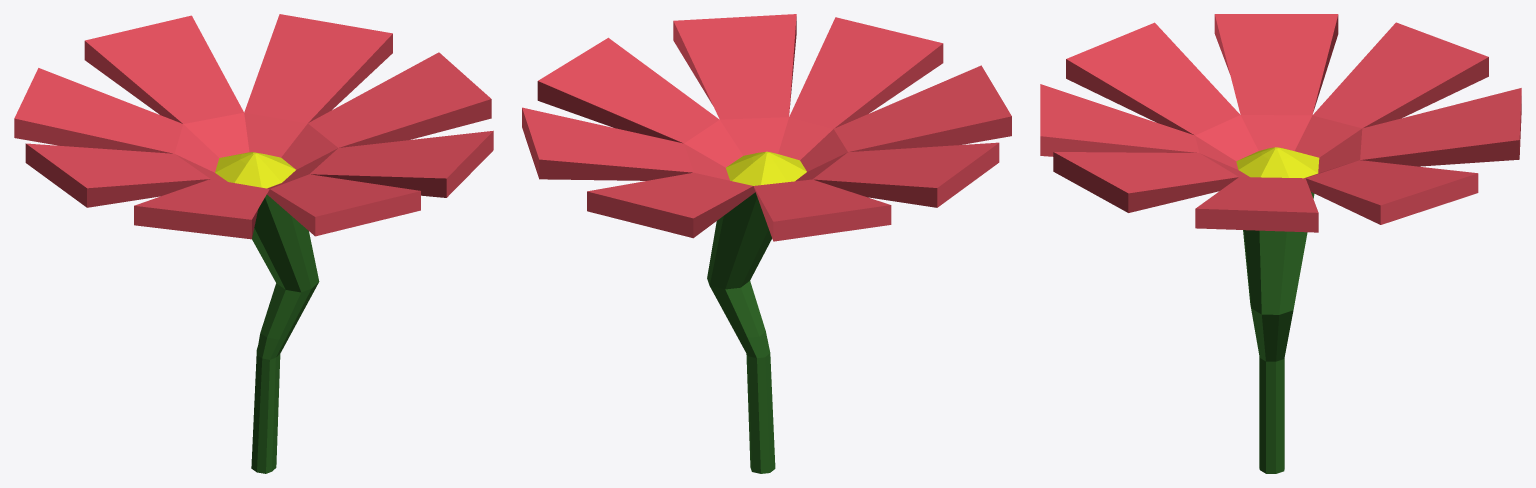
The model's file is pink_flower.fbx.
3 views of the same model, side by side, from view 1: azimuth 30°, elevation 25°; view 2: azimuth 150°, elevation 25°; view 3: azimuth 270°, elevation 25° (orthographic).
Visible parts, largest first — view 1: Cube.001; view 2: Cube.001; view 3: Cube.001.
Boxes of the visible parts, x1,y1,x2,y2 form: Cube.001: (14,14,493,473); Cube.001: (522,14,1011,473); Cube.001: (1040,14,1521,473).
Size of the model in its own units: 0.3343 by 0.2778 by 0.3422.
